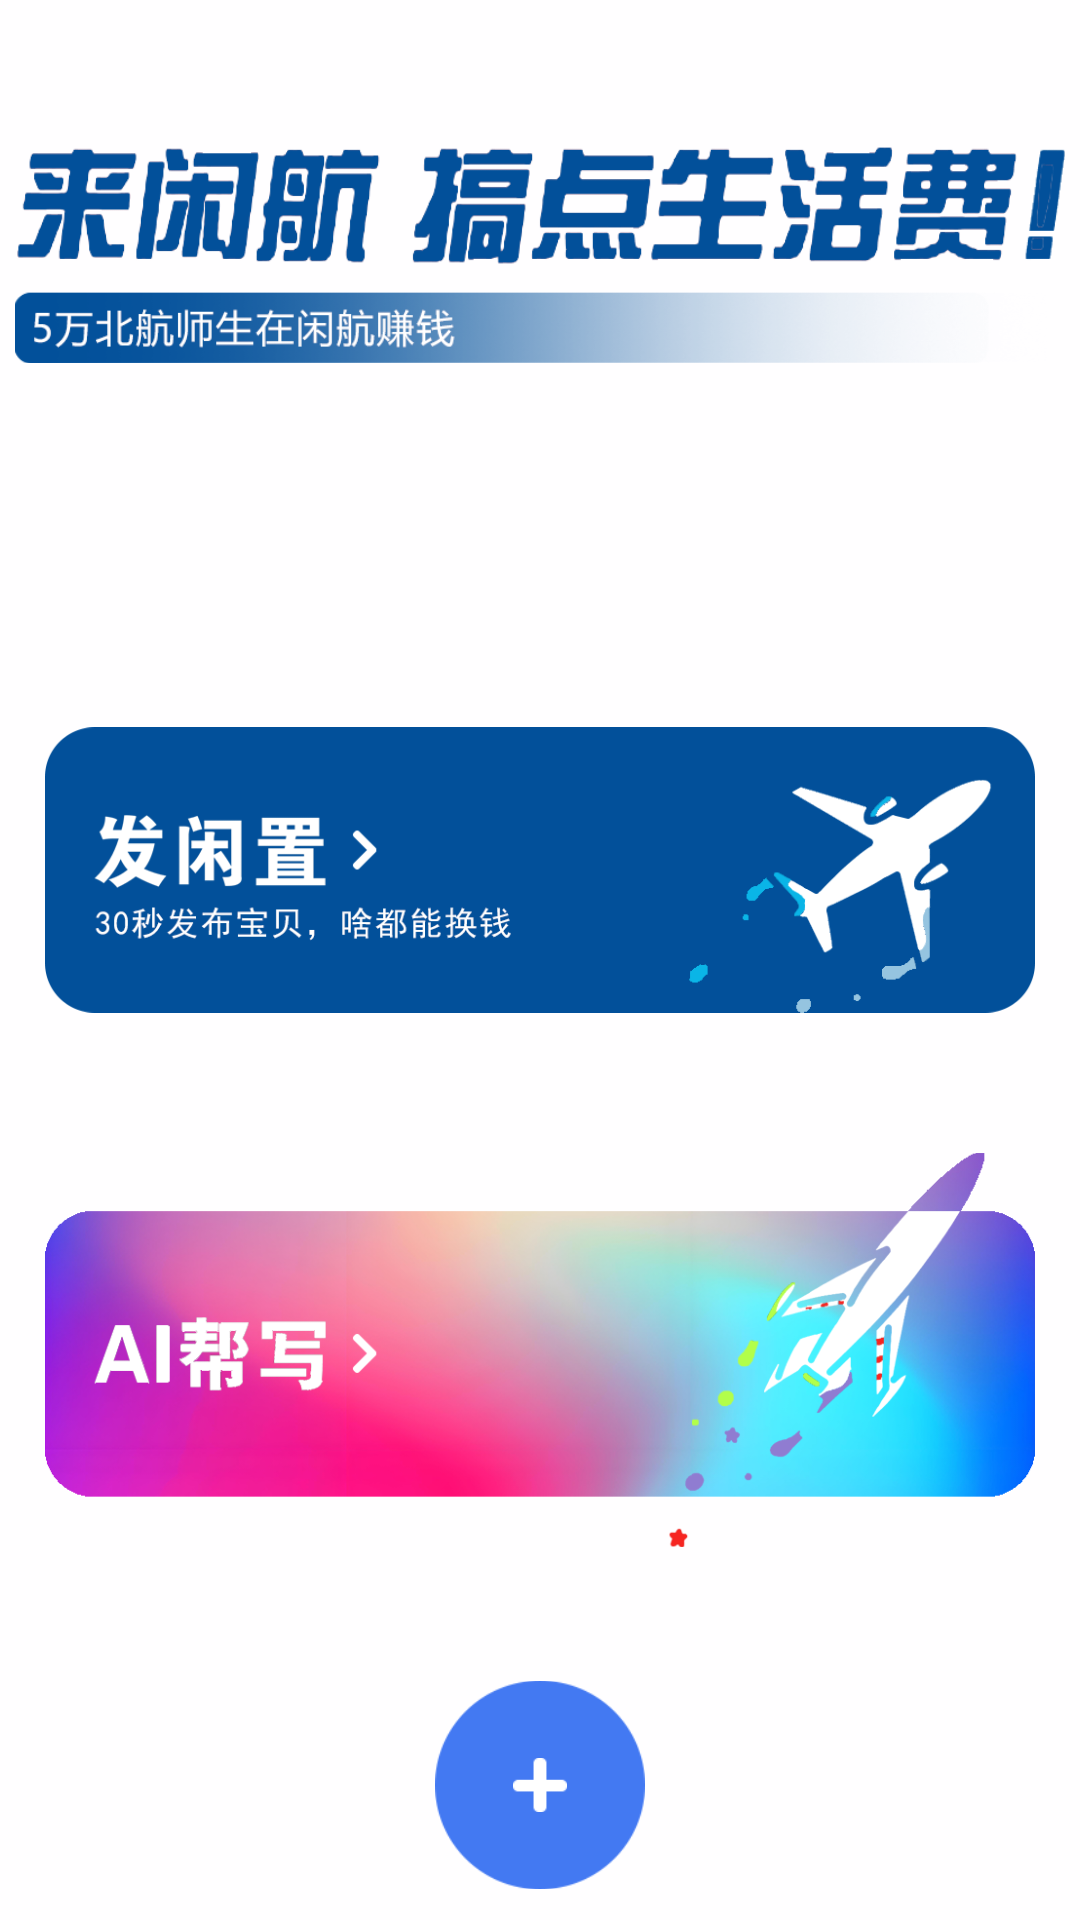

Icons on this 1080*1920 Android screen, each with the point to tap as (x=x, y=y):
add: (x=540, y=1785)
